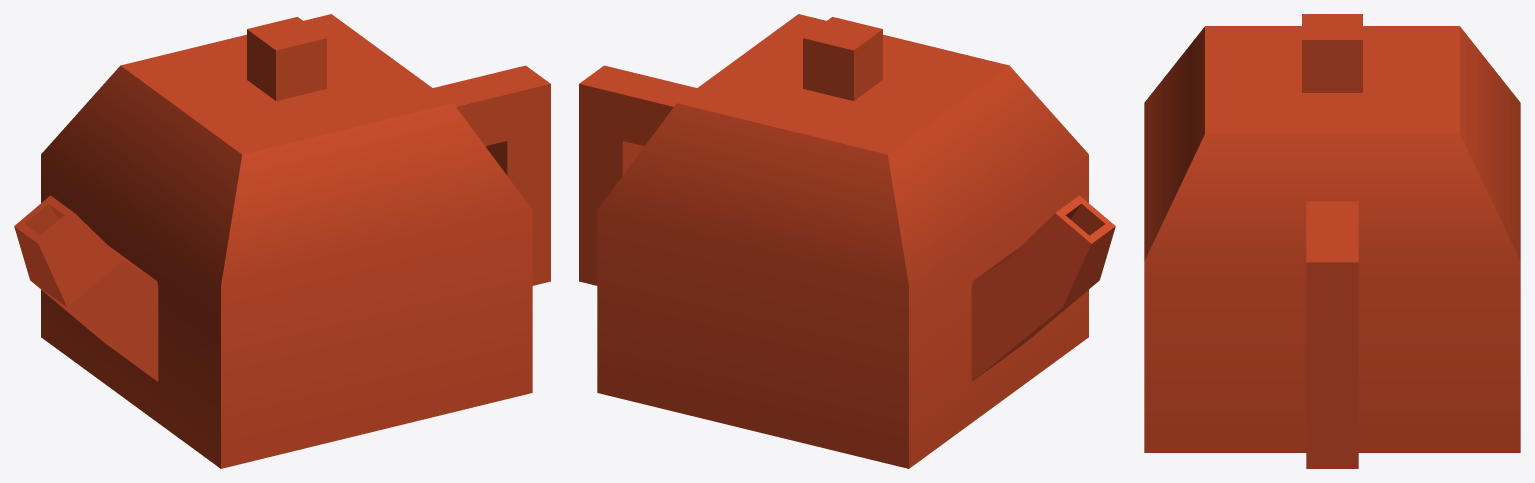
File: 021 Teapot.fbx
The picture shows the model from 3 angles, left to right: view 1: azimuth 30°, elevation 25°; view 2: azimuth 150°, elevation 25°; view 3: azimuth 270°, elevation 25°; orthographic projection. The views are drawn at different scales.
Parts seen in each view (by area): view 1: Lowpoly_Christmas_Pack_020:pCube4; view 2: Lowpoly_Christmas_Pack_020:pCube4; view 3: Lowpoly_Christmas_Pack_020:pCube4.
Boxes of the visible parts, x1,y1,x2,y2 form: Lowpoly_Christmas_Pack_020:pCube4: [14, 14, 550, 468]; Lowpoly_Christmas_Pack_020:pCube4: [579, 14, 1115, 468]; Lowpoly_Christmas_Pack_020:pCube4: [1144, 14, 1520, 468].
Size of the model in its own units: 1.64 by 1.02 by 1.
